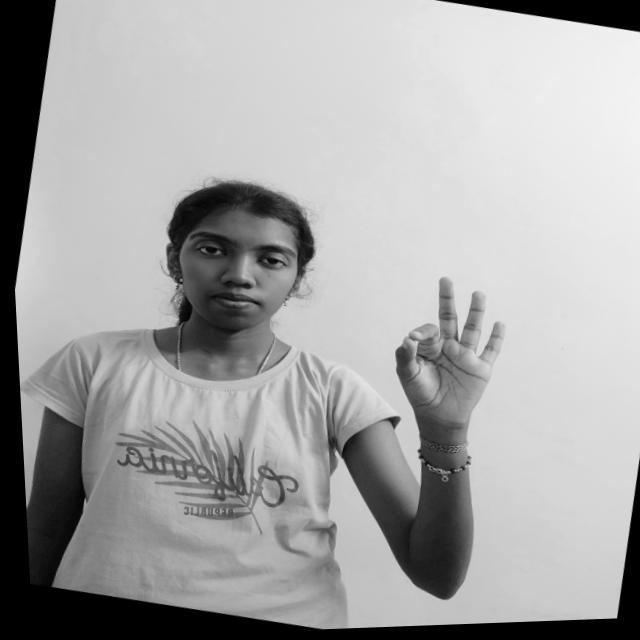Superb: (363, 263, 541, 450)
